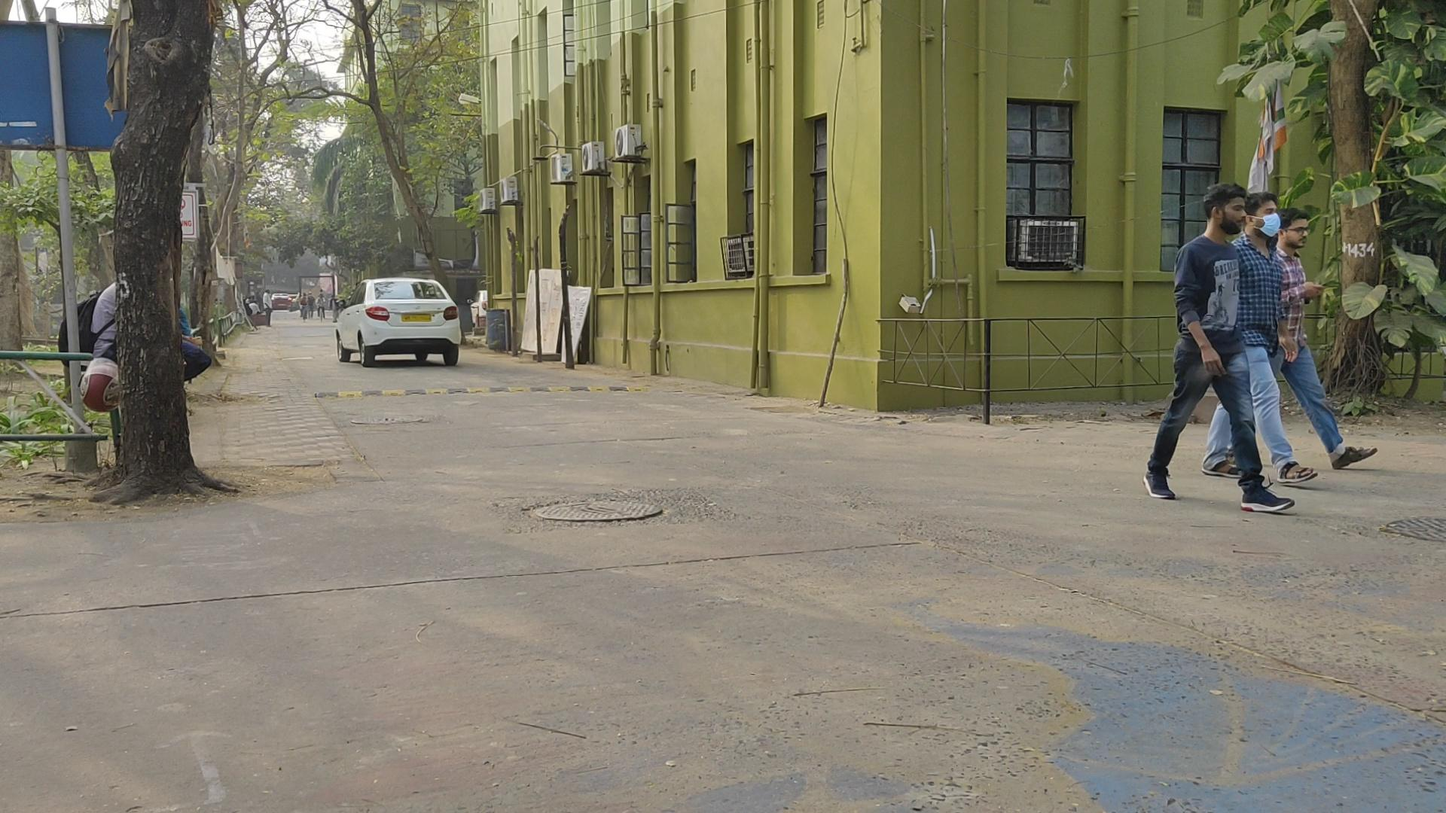car: (337, 279, 460, 370)
